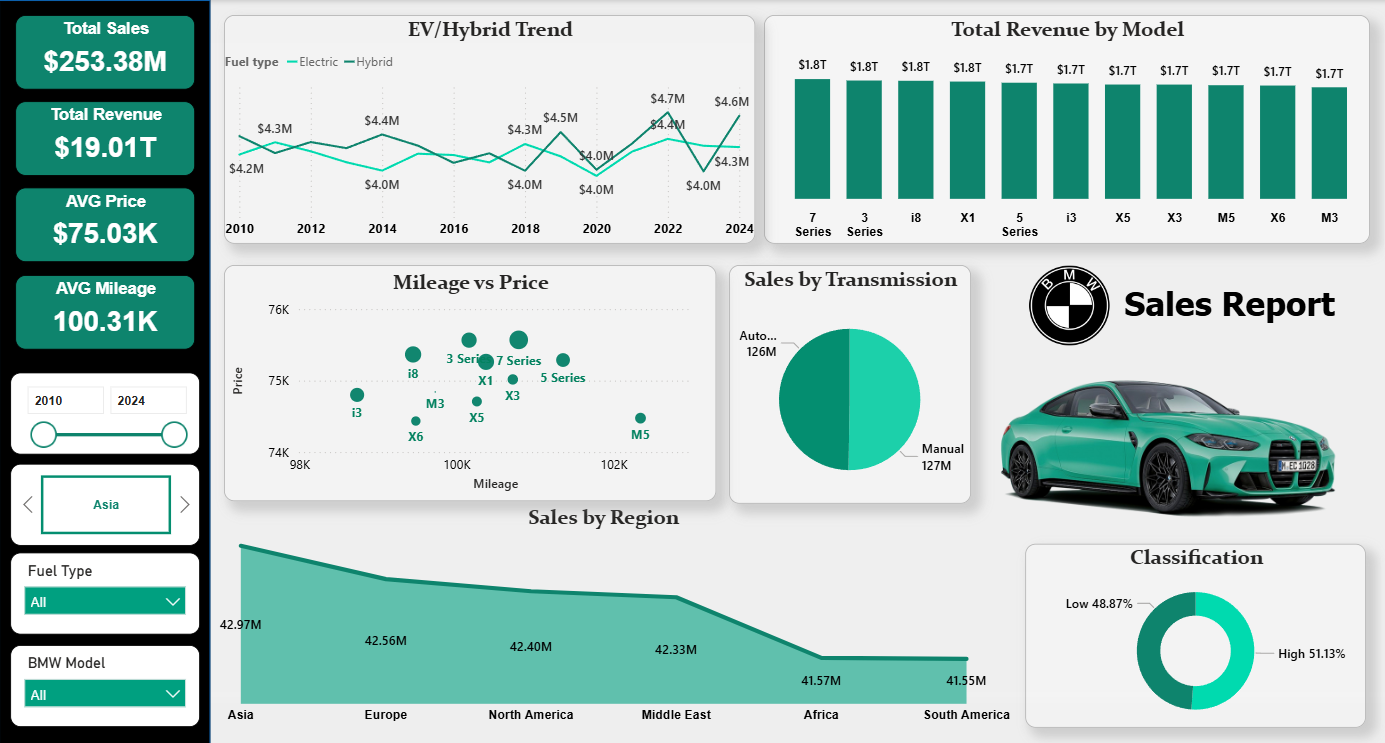

What the dashboard file says about the page in this screenshot:
{"tool":"powerbi","page":{"name":"BMW.","canvas":[1340,720],"ordinal":0},"visuals":[{"type":"shape","box":[0,0,204.2,719.4],"z":0},{"type":"columnChart","title":"Total Revenue by Model","fields":{"Category":["bmwsales.model"],"Y":["bmwsales.Total Revenue"]},"box":[738.9,13.9,584.7,220.8],"z":1000},{"type":"stackedAreaChart","title":"Sales by Region","fields":{"Category":["bmwsales.region"],"Y":["Sum(bmwsales.sales_volume)"]},"box":[177.8,486.1,812.5,215.3],"z":2000},{"type":"lineChart","title":"EV/Hybrid Trend","fields":{"Category":["bmwsales.year"],"Y":["bmwsales.Total Sales"],"Series":["bmwsales.fuel_type"]},"box":[216.7,13.9,512.5,220.8],"z":3000},{"type":"scatterChart","title":"Mileage vs Price","fields":{"X":["bmwsales.mileage_km"],"Y":["Avg(bmwsales. price_usd )"],"Category":["bmwsales.model"],"Size":["Sum(bmwsales.sales_volume)"]},"box":[216.7,255.6,475,227.8],"z":4000},{"type":"donutChart","title":"Classification","fields":{"Category":["bmwsales.sales_classification"],"Y":["bmwsales.Total Sales"]},"box":[990.3,525,329.2,177.8],"z":5000},{"type":"card","title":"Total Sales","fields":{"Values":["bmwsales.Total Sales"]},"box":[15.3,13.9,173.6,72.2],"z":6000},{"type":"slicer","fields":{"Values":["bmwsales.year"]},"box":[11.1,359.7,183.3,79.2],"z":7000},{"type":"image","box":[927.8,254.2,412.5,350],"z":8000},{"type":"card","title":"Total Revenue","fields":{"Values":["bmwsales.Total Revenue"]},"box":[15.3,97.7,173.6,72.2],"z":9000},{"type":"card","title":"AVG Price","fields":{"Values":["bmwsales.AVG Price"]},"box":[15.3,181.5,173.6,72.2],"z":10000},{"type":"card","title":"AVG Mileage","fields":{"Values":["bmwsales.AVG Mileage"]},"box":[15.3,265.3,173.6,72.2],"z":11000},{"type":"slicer","fields":{"Values":["bmwsales.region"]},"box":[11.1,447.2,183.3,79.2],"z":12000},{"type":"slicer","fields":{"Values":["bmwsales.fuel_type"]},"box":[11.1,533.3,183.3,79.2],"z":13000},{"type":"slicer","fields":{"Values":["bmwsales.model"]},"box":[11.1,622.2,183.3,79.2],"z":14000},{"type":"pieChart","title":"Sales by Transmission","fields":{"Y":["Sum(bmwsales.sales_volume)"],"Category":["bmwsales.transmission"]},"box":[704.2,255.6,233.3,230.6],"z":15000},{"type":"image","box":[990.3,255.6,84.7,77.8],"z":16000},{"type":"textbox","box":[1080.6,268.1,219.4,54.2],"z":17000}]}

Visuals, with their boxes in screenshot pixels (x1, y1, x2, y2), scaled from the page's 1340x720 canvas onto the 1385x743 screenshot:
shape: pyautogui.locateOnScreen(0, 0, 211, 742)
"Total Revenue by Model" columnChart: pyautogui.locateOnScreen(764, 14, 1368, 242)
"Sales by Region" stackedAreaChart: pyautogui.locateOnScreen(184, 502, 1024, 724)
"EV/Hybrid Trend" lineChart: pyautogui.locateOnScreen(224, 14, 754, 242)
"Mileage vs Price" scatterChart: pyautogui.locateOnScreen(224, 264, 715, 499)
"Classification" donutChart: pyautogui.locateOnScreen(1024, 542, 1364, 725)
"Total Sales" card: pyautogui.locateOnScreen(16, 14, 195, 89)
slicer - bmwsales.year: pyautogui.locateOnScreen(11, 371, 201, 453)
image: pyautogui.locateOnScreen(959, 262, 1384, 624)
"Total Revenue" card: pyautogui.locateOnScreen(16, 101, 195, 175)
"AVG Price" card: pyautogui.locateOnScreen(16, 187, 195, 262)
"AVG Mileage" card: pyautogui.locateOnScreen(16, 274, 195, 348)
slicer - bmwsales.region: pyautogui.locateOnScreen(11, 461, 201, 543)
slicer - bmwsales.fuel_type: pyautogui.locateOnScreen(11, 550, 201, 632)
slicer - bmwsales.model: pyautogui.locateOnScreen(11, 642, 201, 724)
"Sales by Transmission" pieChart: pyautogui.locateOnScreen(728, 264, 969, 502)
image: pyautogui.locateOnScreen(1024, 264, 1111, 344)
textbox: pyautogui.locateOnScreen(1117, 277, 1344, 333)
